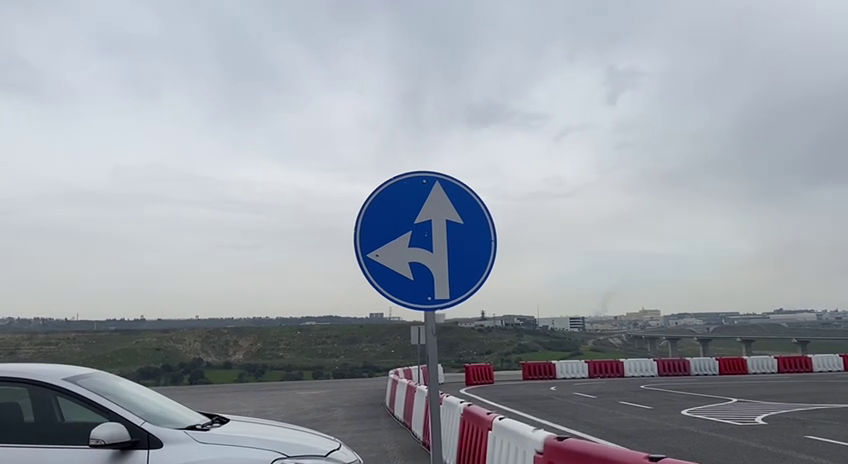forwardAndLeft: (352, 168, 498, 312)
